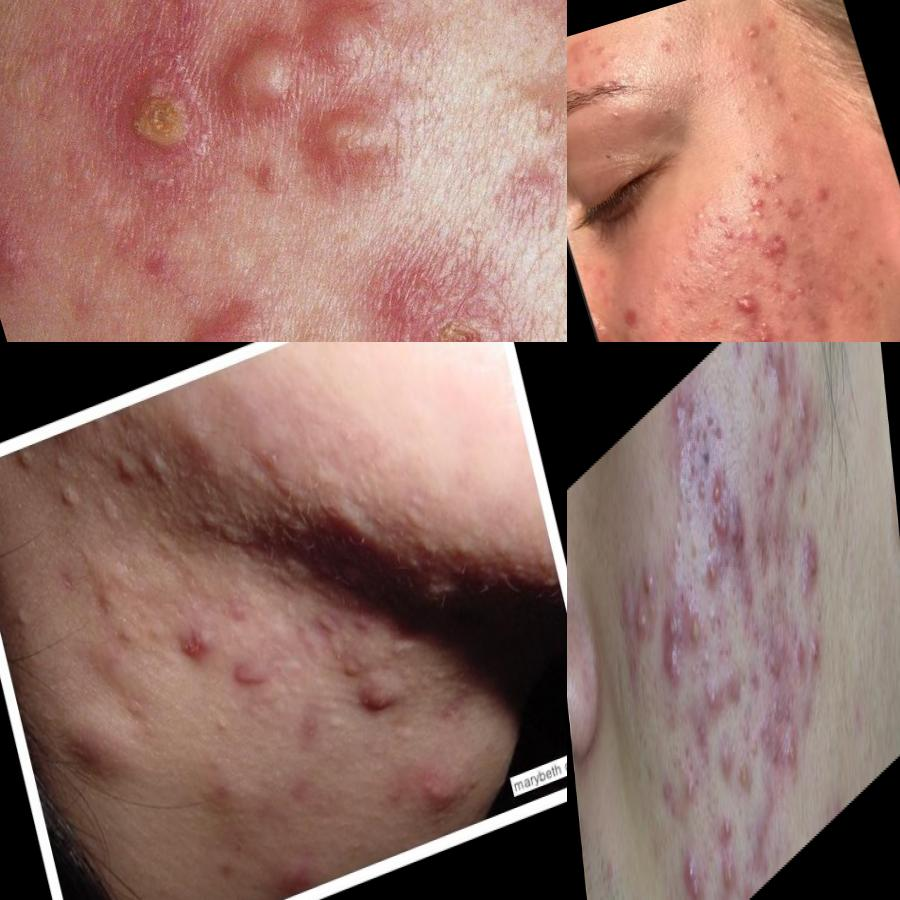blackhead: (11, 434, 53, 488), (56, 472, 94, 524), (115, 449, 142, 495), (1, 530, 22, 579), (706, 589, 722, 646)
cystic: (202, 1, 438, 224), (148, 295, 301, 343), (346, 653, 414, 735), (66, 704, 124, 799), (416, 756, 484, 826)
papular: (761, 343, 789, 405), (764, 412, 788, 476), (639, 559, 661, 612), (618, 302, 650, 334), (792, 625, 808, 680), (775, 199, 803, 224), (812, 183, 840, 207), (789, 280, 814, 302), (767, 276, 786, 295)
purulent: (681, 753, 705, 813), (785, 726, 803, 803), (736, 14, 772, 48), (740, 192, 771, 227), (722, 852, 741, 900), (795, 385, 812, 438), (688, 599, 702, 661), (703, 546, 721, 594), (721, 792, 736, 847), (706, 673, 722, 719), (710, 465, 725, 514), (737, 754, 751, 803), (747, 325, 777, 343), (753, 315, 777, 335), (719, 225, 740, 246), (713, 209, 735, 229), (744, 170, 763, 188), (757, 178, 774, 195), (769, 170, 785, 186), (772, 194, 788, 210)
sebo-crystan-conglo: (101, 28, 228, 216), (166, 604, 235, 677), (757, 630, 794, 747), (660, 582, 692, 708), (715, 492, 750, 582), (795, 521, 824, 620), (682, 835, 709, 900), (667, 386, 693, 452), (758, 227, 803, 265), (727, 287, 768, 320), (634, 599, 653, 658), (810, 624, 826, 675)
whitehead: (738, 52, 784, 98), (587, 34, 625, 77), (596, 101, 630, 136), (653, 28, 683, 62), (715, 262, 742, 288), (740, 226, 766, 250), (691, 278, 713, 300), (705, 277, 723, 298)
